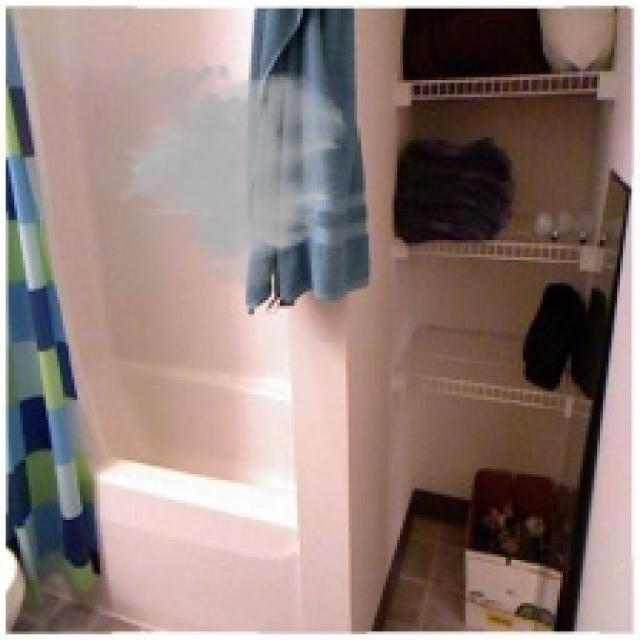smoke: (95, 46, 352, 297)
